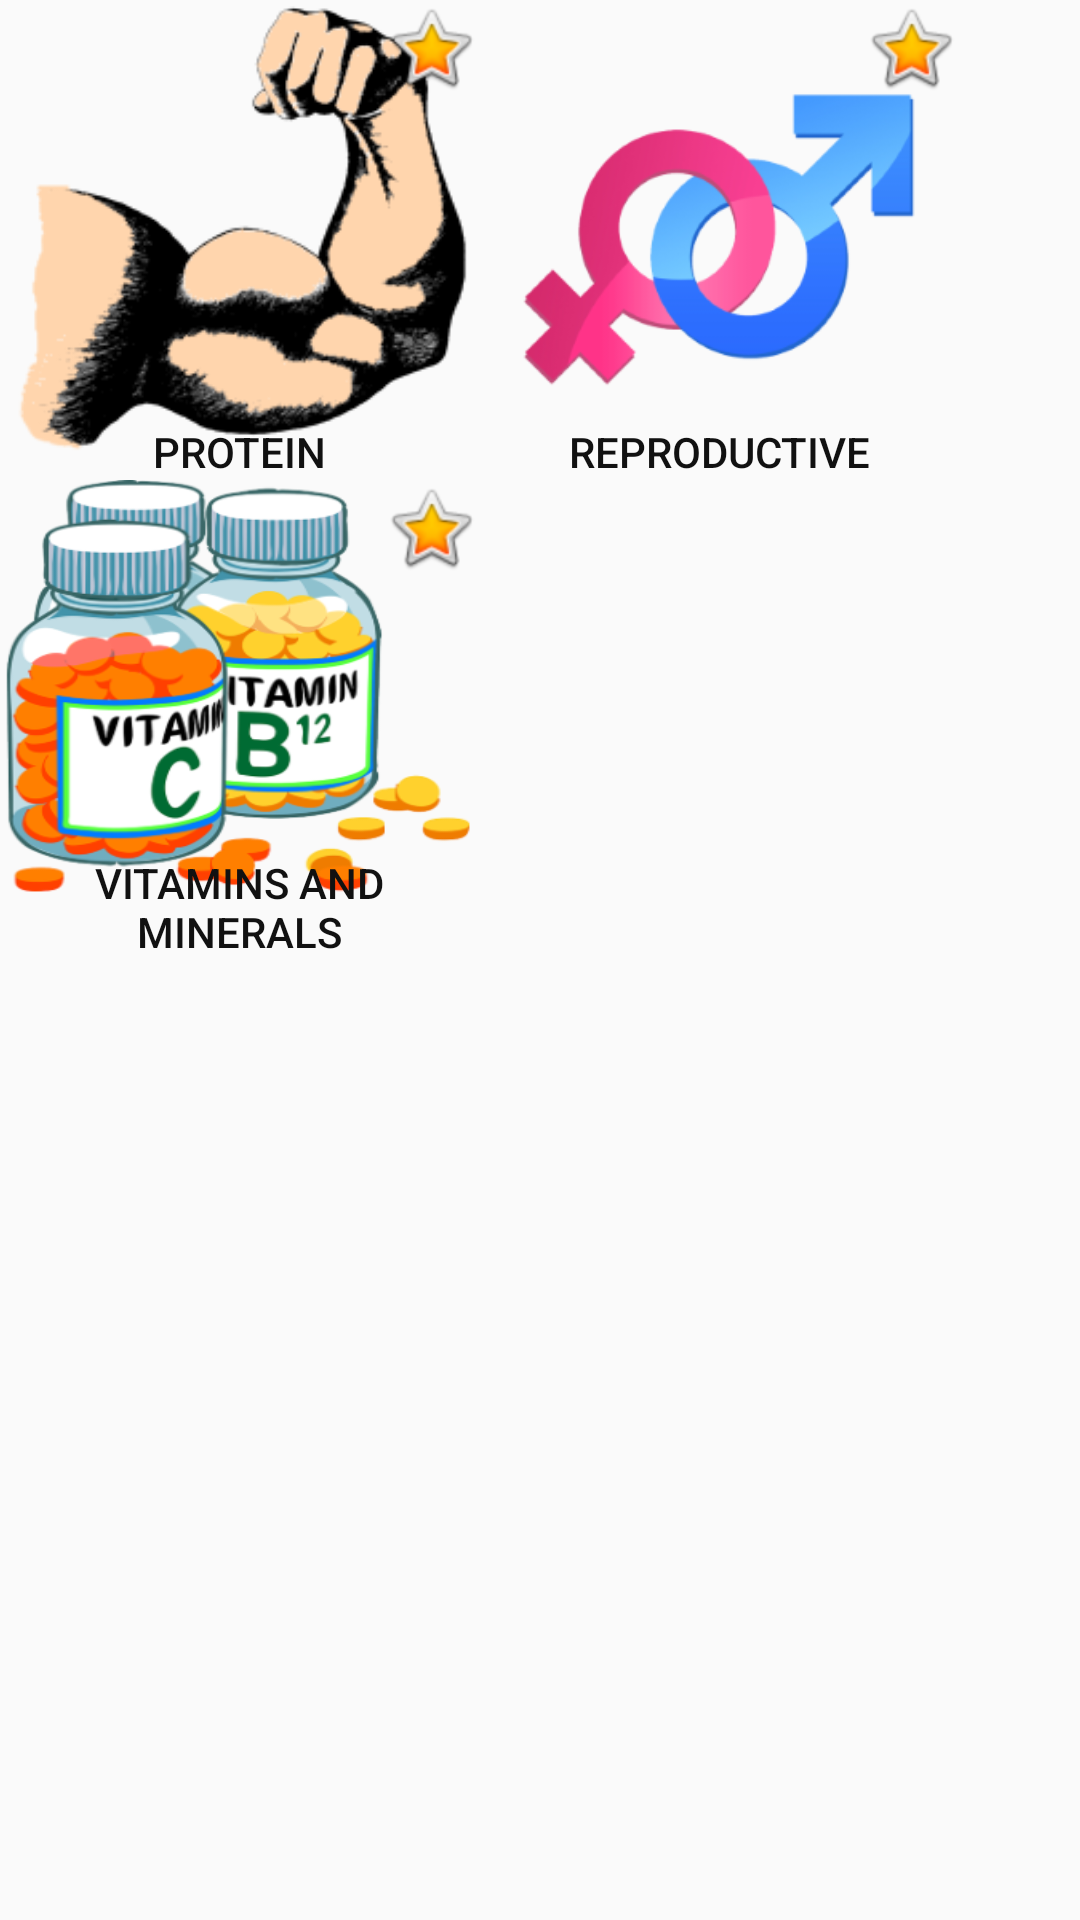

Icon bounding boxes for this 1080px×1920px phone screenshot, format bbox=(x1, y1, x2, y2):
star on: bbox=(383, 10, 472, 96), bbox=(872, 10, 952, 88), bbox=(392, 490, 472, 568)
